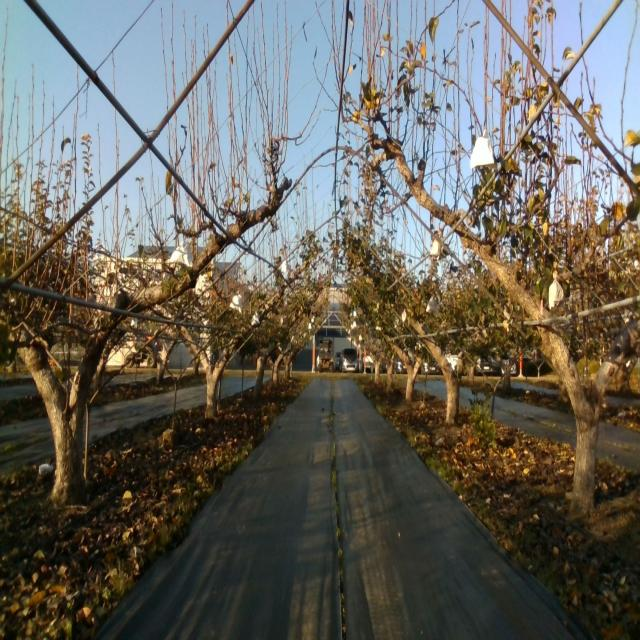pearbags: (471, 135, 494, 170), (170, 238, 193, 267), (548, 270, 564, 308), (229, 290, 242, 313), (426, 295, 438, 313)
